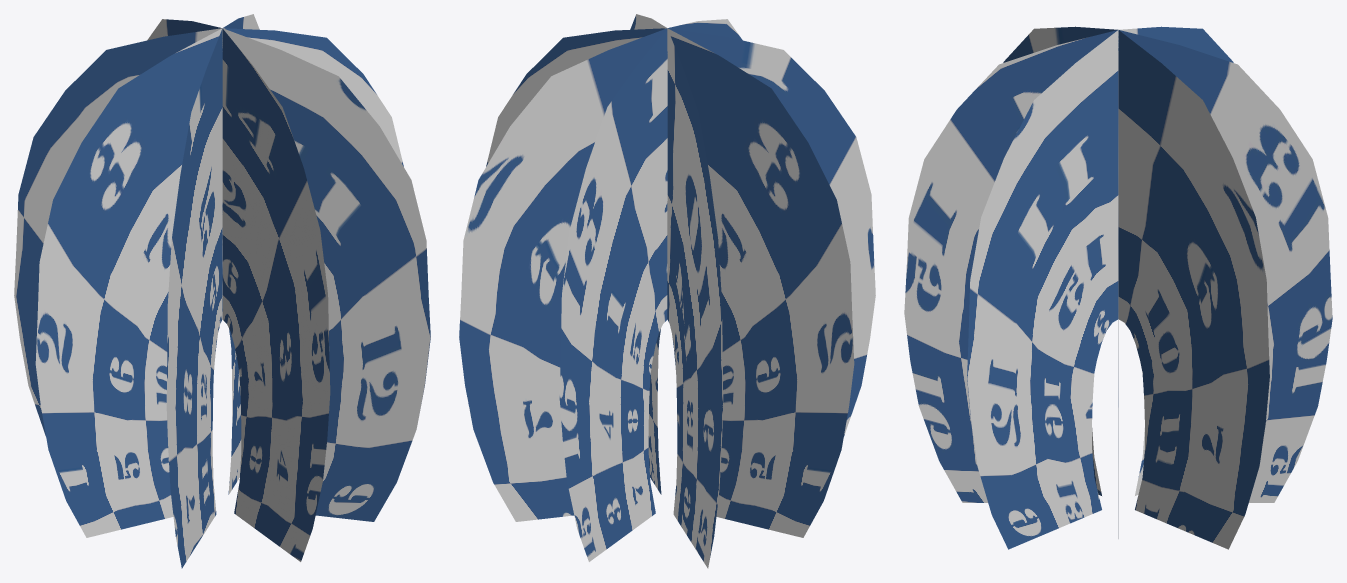
The model's file is Aura001_4.fbx.
The picture shows the model from 3 angles, left to right: view 1: azimuth 30°, elevation 25°; view 2: azimuth 150°, elevation 25°; view 3: azimuth 270°, elevation 25°; orthographic projection.
Parts seen in each view (by area): view 1: SM_e_Useful_Aura010_05; view 2: SM_e_Useful_Aura010_05; view 3: SM_e_Useful_Aura010_05.
Part boxes in pixels (<box>): SM_e_Useful_Aura010_05: <box>14,14,430,568</box>; SM_e_Useful_Aura010_05: <box>459,14,875,568</box>; SM_e_Useful_Aura010_05: <box>904,26,1332,549</box>.
Bounding box in the file's own units: 239 × 292 × 239.
